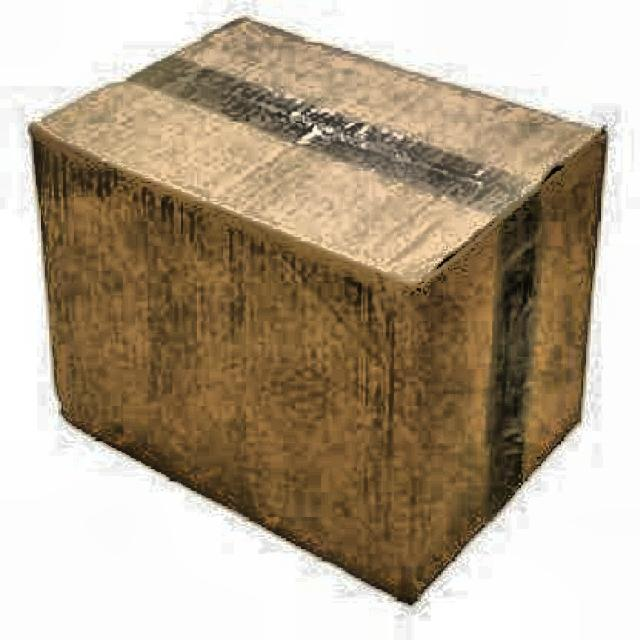Cardbox: (6, 0, 620, 611)
